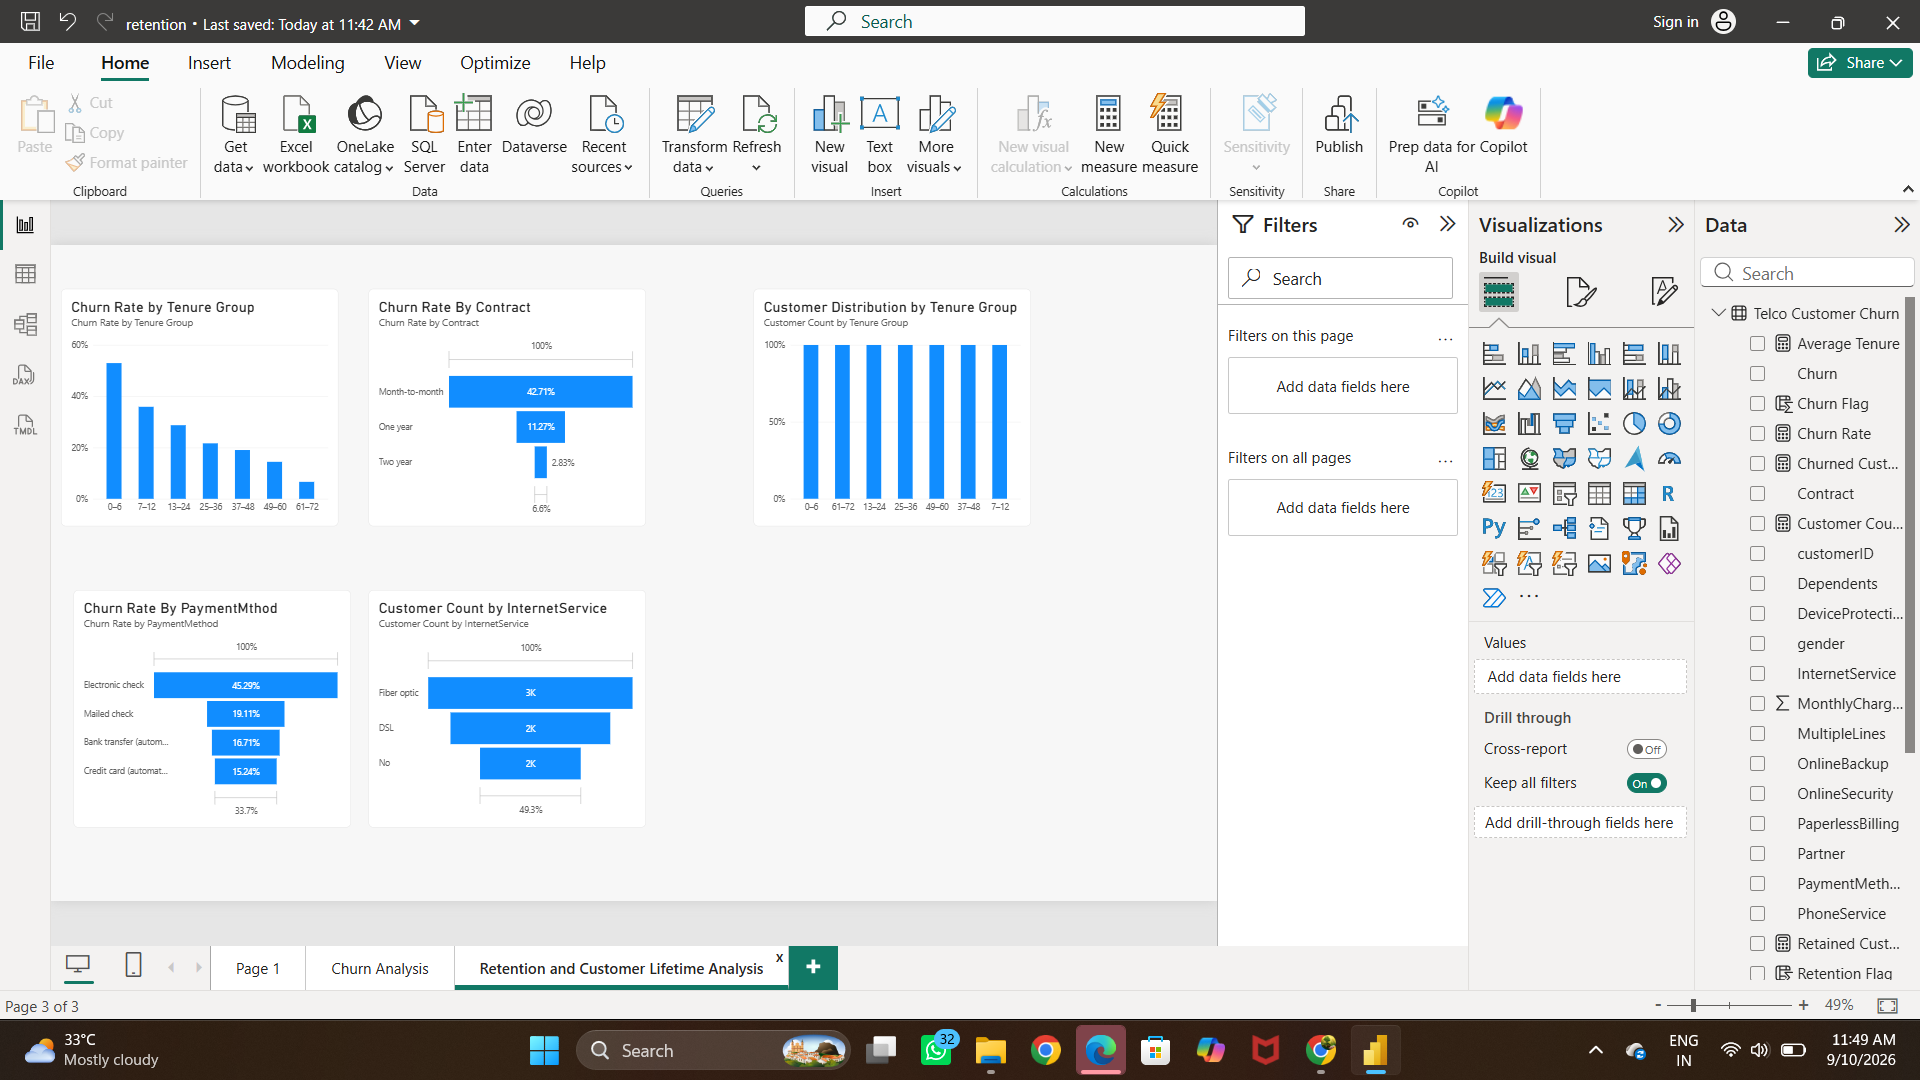

This screenshot's page, from the dashboard's own definition file:
{"tool":"powerbi","page":{"name":"Retention and Customer Lifetime Analysis","canvas":[1920,1080],"ordinal":2},"visuals":[{"type":"clusteredColumnChart","title":"Churn Rate by Tenure Group","fields":{"Category":["Telco Customer Churn.Tenure Group"],"Y":["Telco Customer Churn.Churn Rate"]},"box":[16.5,72,456.9,391.1],"z":0},{"type":"hundredPercentStackedColumnChart","title":"Customer Distribution by Tenure Group","fields":{"Category":["Telco Customer Churn.Tenure Group"],"Y":["Telco Customer Churn.Customer Count"]},"box":[1156.8,72,457,391],"z":2000},{"type":"funnel","title":"Churn Rate By PaymentMthod","fields":{"Category":["Telco Customer Churn.PaymentMethod"],"Y":["Telco Customer Churn.Churn Rate"]},"box":[37,568.1,457,391],"z":3000},{"type":"funnel","title":"Churn Rate By Contract","fields":{"Category":["Telco Customer Churn.Contract"],"Y":["Telco Customer Churn.Churn Rate"]},"box":[522.8,72,457,391],"z":3001},{"type":"funnel","title":"Customer Count by InternetService","fields":{"Category":["Telco Customer Churn.InternetService"],"Y":["Telco Customer Churn.Customer Count"]},"box":[523,568,457,391],"z":3002}]}

Visuals, with their boxes on the page's 1920x1080 design canvas (x1, y1, x2, y2). These are canvas units, not pixel positions in the 1920x1080 screenshot, which may show the page scaled, cropped or inside an application window:
"Churn Rate by Tenure Group" clusteredColumnChart: [16, 72, 473, 463]
"Customer Distribution by Tenure Group" hundredPercentStackedColumnChart: [1157, 72, 1614, 463]
"Churn Rate By PaymentMthod" funnel: [37, 568, 494, 959]
"Churn Rate By Contract" funnel: [523, 72, 980, 463]
"Customer Count by InternetService" funnel: [523, 568, 980, 959]
